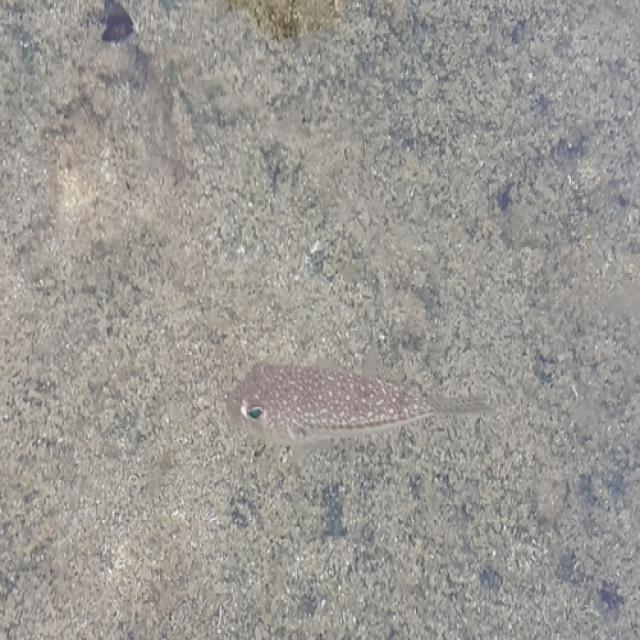Balik: (227, 364, 492, 446)
